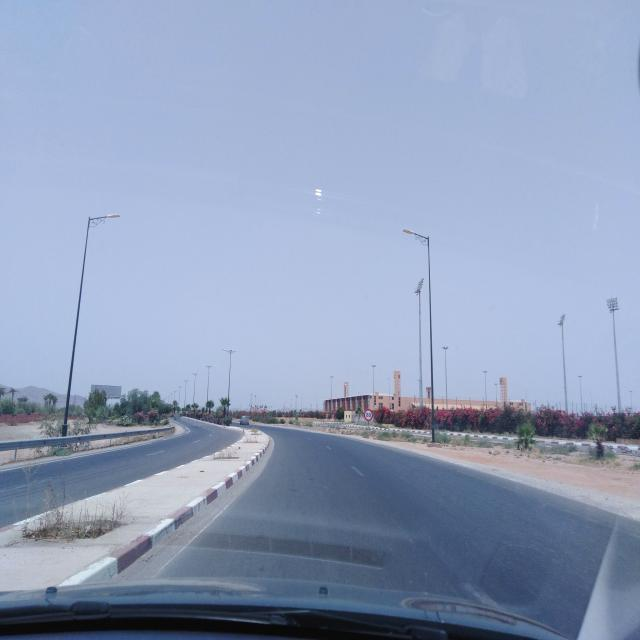car: (239, 416, 250, 426)
